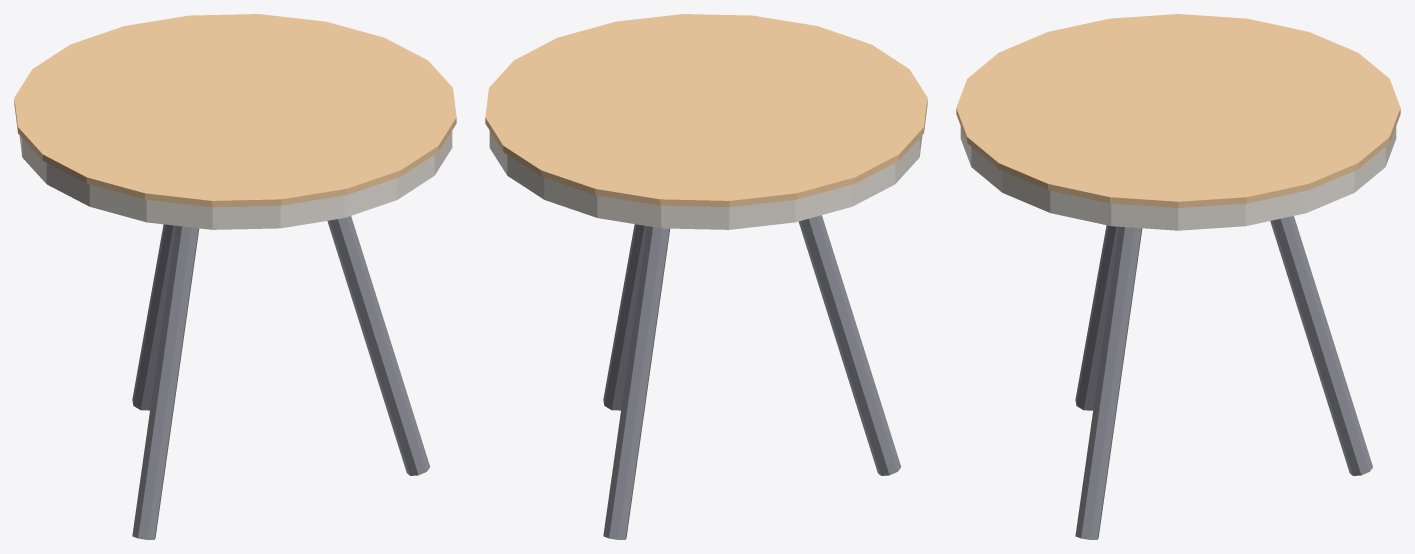
Rendered from deco_tavolinetto_01.glb.
The picture shows the model from 3 angles, left to right: view 1: azimuth 30°, elevation 25°; view 2: azimuth 150°, elevation 25°; view 3: azimuth 270°, elevation 25°; orthographic projection.
Visible parts, largest first — view 1: deco_tavolinetto_01; view 2: deco_tavolinetto_01; view 3: deco_tavolinetto_01.
Boxes of the visible parts, x1,y1,x2,y2 form: deco_tavolinetto_01: [14, 14, 456, 539]; deco_tavolinetto_01: [485, 14, 927, 539]; deco_tavolinetto_01: [956, 14, 1400, 539].
Size of the model in its own units: 0.51 by 0.4628 by 0.51.
